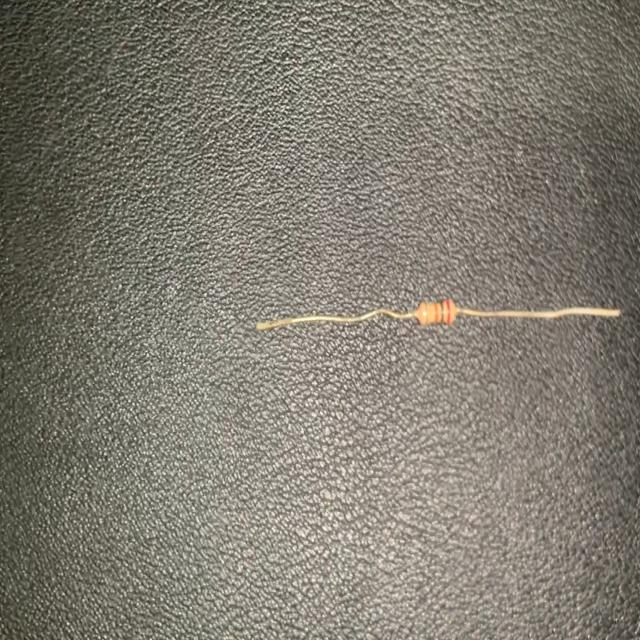resistor: (251, 298, 624, 339)
